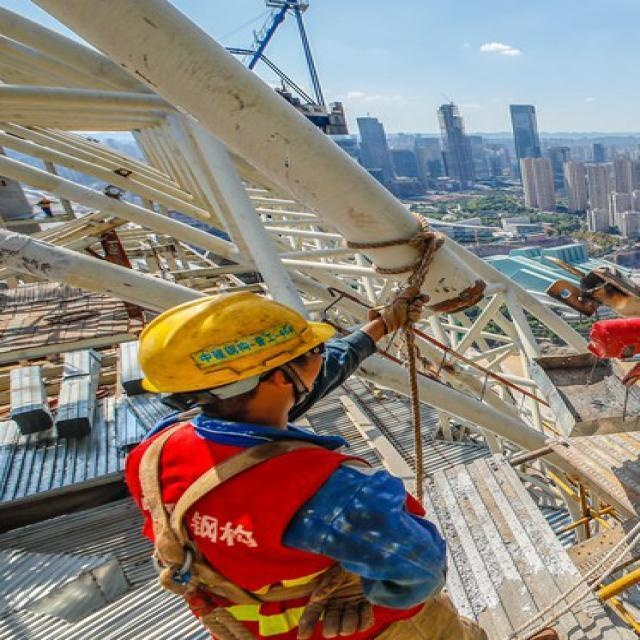Arnes_seguridad: (129, 412, 367, 618)
